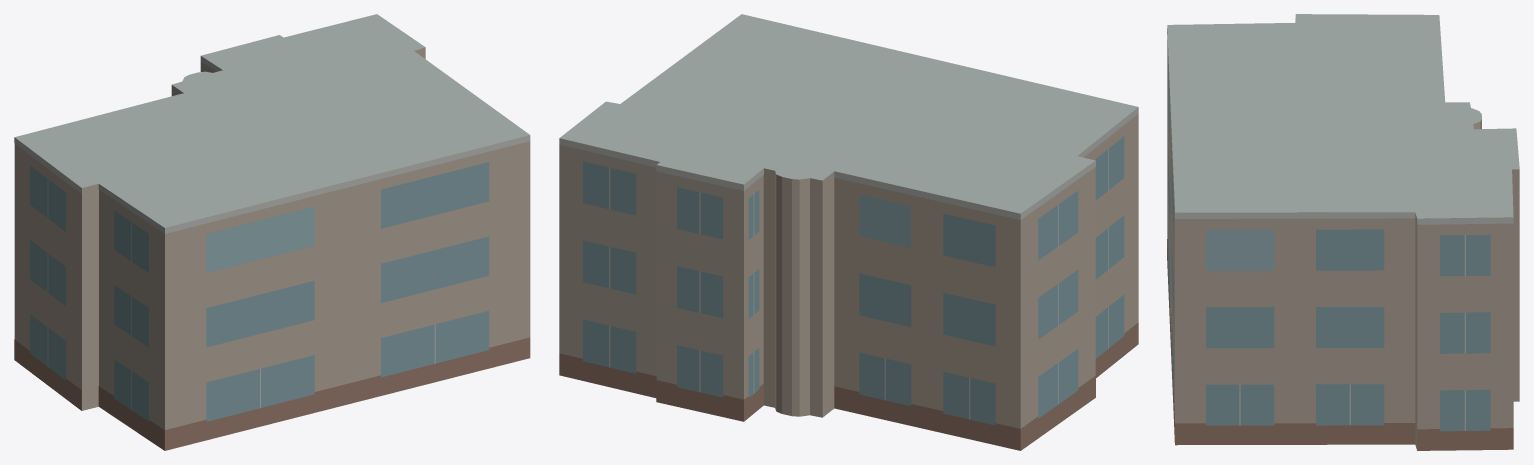
File: survey-upis-32716286.glb
3 views of the same model, side by side, from view 1: azimuth 30°, elevation 25°; view 2: azimuth 150°, elevation 25°; view 3: azimuth 270°, elevation 25° (orthographic). The views are drawn at different scales.
Parts seen in each view (by area): view 1: survey-upis-32716286.tmp; view 2: survey-upis-32716286.tmp; view 3: survey-upis-32716286.tmp.
Boxes of the visible parts, bbox=[...] form: survey-upis-32716286.tmp: bbox=[14, 14, 530, 450]; survey-upis-32716286.tmp: bbox=[559, 14, 1138, 450]; survey-upis-32716286.tmp: bbox=[1167, 14, 1519, 450].
Size of the model in its own units: 17.19 by 9.1 by 12.53.
